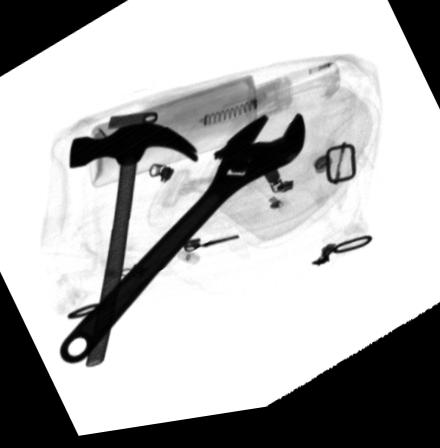Hammer: (68, 125, 200, 370)
Wrench: (59, 121, 306, 366)
